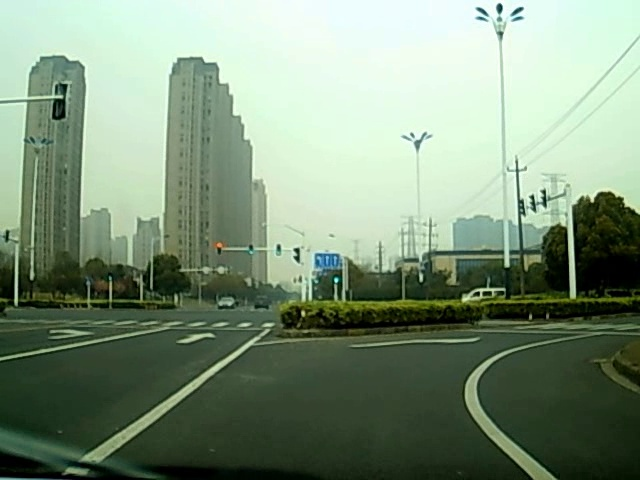Traffic_Light_go: (248, 243, 256, 256), (275, 243, 282, 257), (331, 275, 340, 284)
Traffic_Light_stop: (215, 241, 223, 254)
